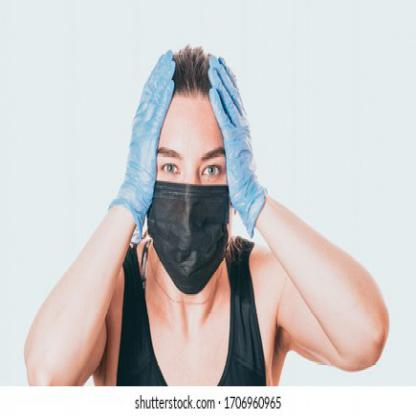with_gloves: (107, 48, 177, 247), (206, 55, 268, 238)
